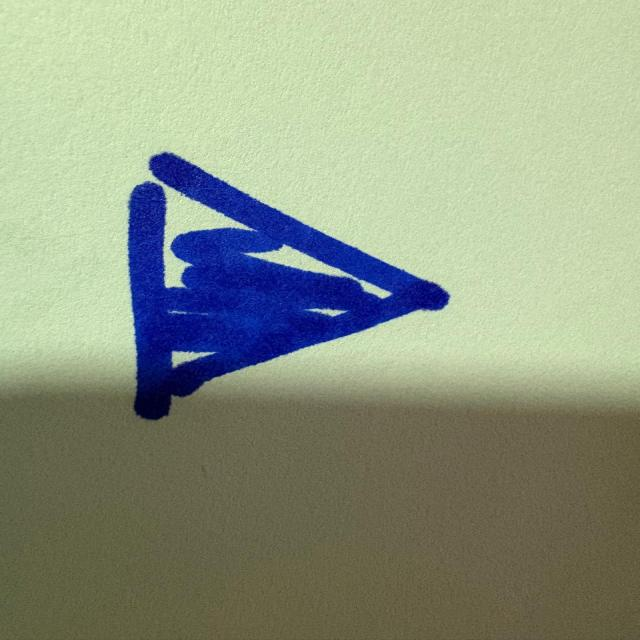Triangle: (121, 142, 455, 422)
